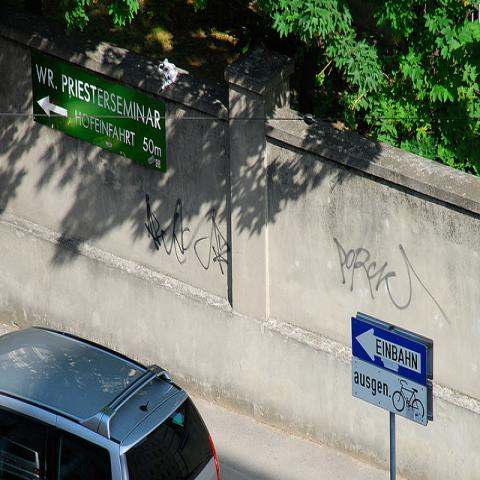car: (0, 322, 222, 475)
